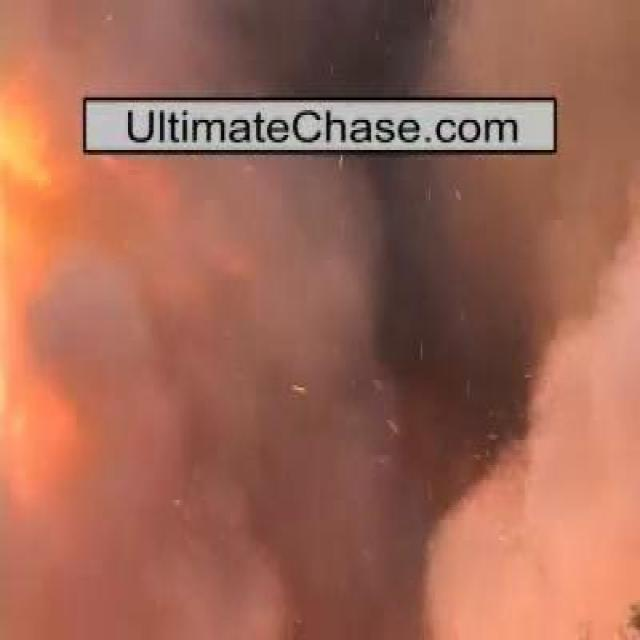Smoke: (46, 162, 594, 586)
